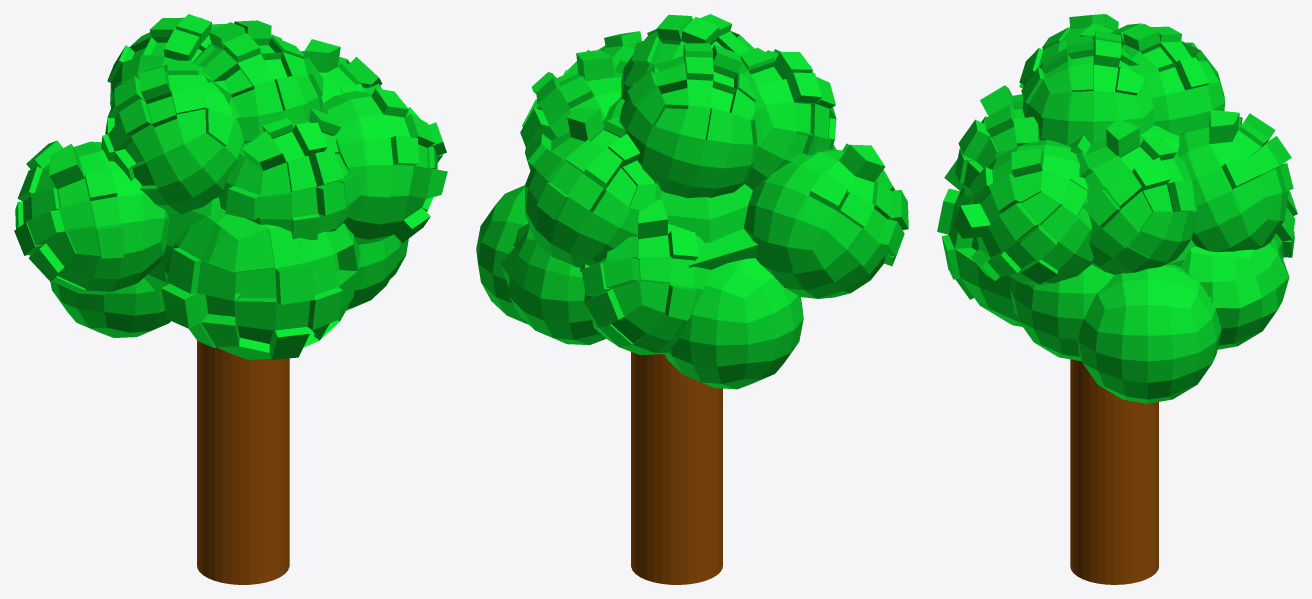
File: tree_guzel.glb
3 renders of one model, left to right at view 1: azimuth 30°, elevation 25°; view 2: azimuth 150°, elevation 25°; view 3: azimuth 270°, elevation 25°, orthographic. The views are drawn at different scales.
Visible parts, largest first — view 1: Roundcube.012; view 2: Roundcube.012; view 3: Roundcube.012.
Boxes of the visible parts, bbox=[...] form: Roundcube.012: bbox=[14, 14, 447, 584]; Roundcube.012: bbox=[476, 14, 908, 584]; Roundcube.012: bbox=[937, 14, 1297, 584].
Size of the model in its own units: 2.15 by 2.84 by 1.77.
